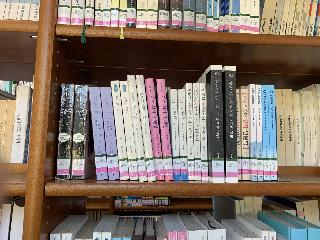book-spine: (126, 74, 148, 182), (135, 74, 156, 182), (118, 80, 139, 181), (145, 78, 165, 181), (99, 86, 120, 180), (55, 83, 75, 180), (110, 80, 129, 180), (88, 86, 108, 180), (156, 78, 174, 181), (210, 65, 225, 183), (71, 85, 88, 180), (225, 65, 238, 183), (267, 85, 278, 181), (185, 83, 195, 181), (261, 85, 271, 180), (178, 89, 188, 180), (193, 83, 202, 181), (199, 83, 208, 181), (255, 85, 264, 181), (241, 89, 250, 181), (171, 89, 180, 180), (250, 84, 258, 181), (236, 89, 242, 180)
